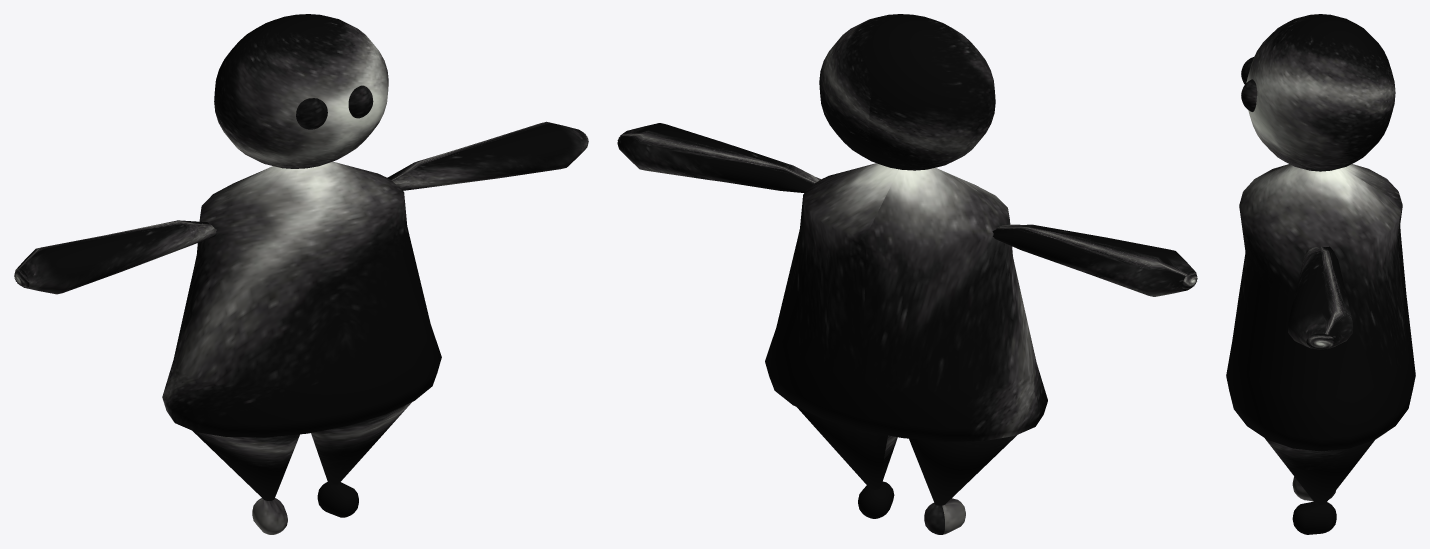
The model's file is atierbu1.fbx.
The picture shows the model from 3 angles, left to right: view 1: azimuth 30°, elevation 25°; view 2: azimuth 150°, elevation 25°; view 3: azimuth 270°, elevation 25°; orthographic projection. The views are drawn at different scales.
Visible parts, largest first — view 1: Character2; view 2: Character2; view 3: Character2.
Part boxes in pixels (x1,y1,x2,y2): Character2: [14, 14, 588, 534]; Character2: [617, 14, 1197, 534]; Character2: [1226, 14, 1415, 534].
Bounding box in the file's own units: 81.7 × 68.74 × 23.99.
1 material, 1 textured.
